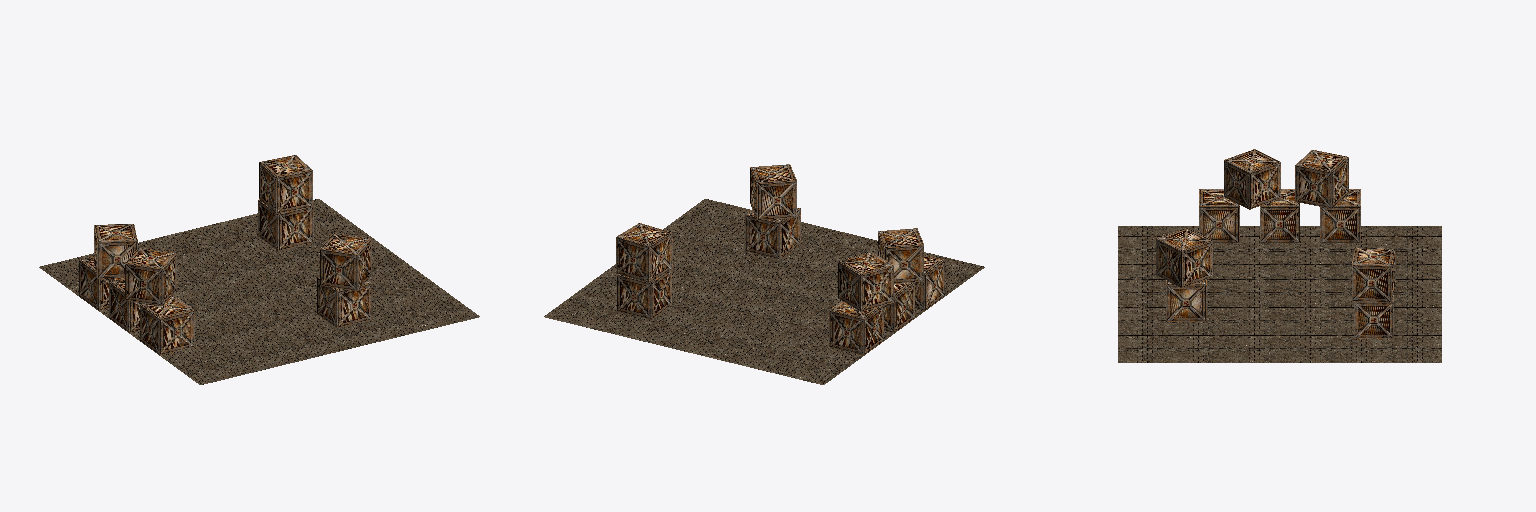
The picture shows the model from 3 angles: view 1: azimuth 30°, elevation 25°; view 2: azimuth 150°, elevation 25°; view 3: azimuth 270°, elevation 25°; orthographic projection.
Visible parts, largest first — view 1: Plane, Cube.005, Cube.001, Cube.008, Cube.003, Cube.006, Cube.004, Cube.007, Cube.002, Cube.009; view 2: Plane, Cube.005, Cube.004, Cube.008, Cube.002, Cube.007, Cube.003, Cube.006, Cube.001, Cube.009; view 3: Plane, Cube.003, Cube.008, Cube.004, Cube.005, Cube.001, Cube.009, Cube.002, Cube.007, Cube.006.
Boxes of the visible parts, x1=… form: Plane: x1=39, y1=199, x2=479, y2=384; Cube.005: x1=259, y1=155, x2=312, y2=213; Cube.001: x1=140, y1=296, x2=194, y2=354; Cube.008: x1=320, y1=233, x2=371, y2=291; Cube.003: x1=125, y1=248, x2=176, y2=305; Cube.006: x1=258, y1=199, x2=313, y2=250; Cube.004: x1=94, y1=224, x2=137, y2=278; Cube.007: x1=317, y1=276, x2=371, y2=327; Cube.002: x1=79, y1=256, x2=122, y2=310; Cube.009: x1=109, y1=278, x2=141, y2=332; Plane: x1=544, y1=199, x2=984, y2=384; Cube.005: x1=616, y1=223, x2=672, y2=282; Cube.004: x1=838, y1=252, x2=893, y2=311; Cube.008: x1=750, y1=164, x2=796, y2=220; Cube.002: x1=829, y1=301, x2=883, y2=354; Cube.007: x1=745, y1=208, x2=800, y2=259; Cube.003: x1=878, y1=228, x2=923, y2=283; Cube.006: x1=617, y1=270, x2=671, y2=319; Cube.001: x1=915, y1=255, x2=944, y2=310; Cube.009: x1=884, y1=282, x2=914, y2=332; Plane: x1=1118, y1=226, x2=1441, y2=362; Cube.003: x1=1224, y1=149, x2=1280, y2=209; Cube.008: x1=1156, y1=228, x2=1212, y2=287; Cube.004: x1=1295, y1=150, x2=1348, y2=208; Cube.005: x1=1352, y1=247, x2=1395, y2=302; Cube.001: x1=1199, y1=189, x2=1239, y2=242; Cube.009: x1=1260, y1=189, x2=1299, y2=242; Cube.002: x1=1320, y1=189, x2=1360, y2=242; Cube.007: x1=1166, y1=280, x2=1206, y2=321; Cube.006: x1=1354, y1=295, x2=1393, y2=338.
Size of the model in its own units: 4.92 by 1.21 by 4.8.
2 materials, 2 textured.